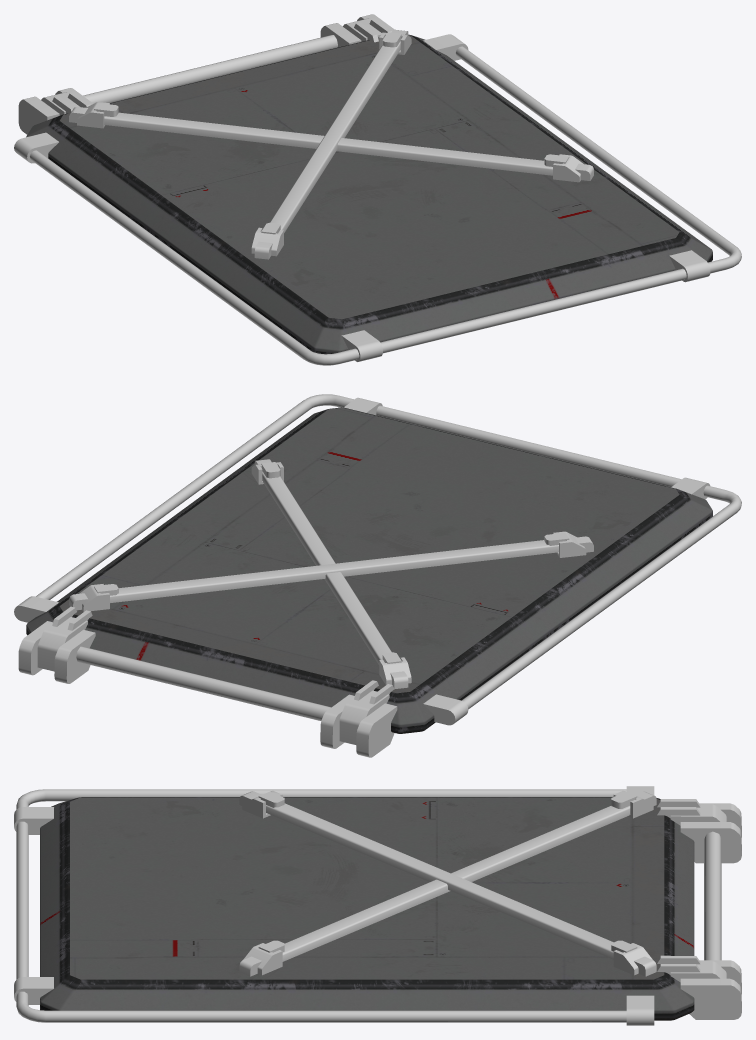
File: Cover_Panel_Frame1.fbx
3 renders of one model, top to bottom at view 1: azimuth 30°, elevation 25°; view 2: azimuth 150°, elevation 25°; view 3: azimuth 270°, elevation 25°, orthographic. The views are drawn at different scales.
Visible parts, largest first — view 1: Panel, Frame; view 2: Panel, Frame; view 3: Panel, Frame.
Part boxes in pixels (x1=…): Panel: x1=26, y1=34, x2=712, y2=354; Frame: x1=14, y1=14, x2=741, y2=365; Panel: x1=26, y1=407, x2=712, y2=733; Frame: x1=14, y1=394, x2=741, y2=757; Panel: x1=40, y1=797, x2=694, y2=1020; Frame: x1=14, y1=786, x2=741, y2=1025.
Size of the model in its own units: 200 by 23.39 by 268.
